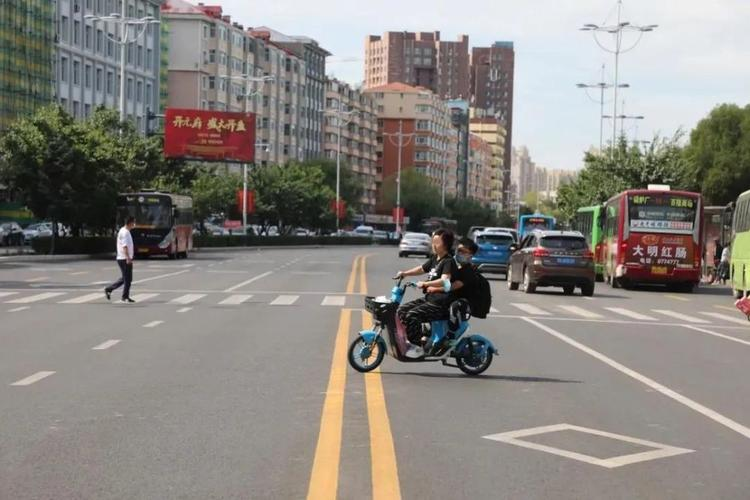bicycle: (347, 281, 497, 376), (452, 261, 493, 319)
bus: (578, 187, 705, 292), (116, 191, 194, 259), (718, 193, 750, 322), (515, 213, 558, 236)
car: (506, 230, 596, 296), (466, 228, 519, 277), (398, 233, 432, 258), (23, 222, 67, 240), (0, 222, 26, 246)
person: (392, 231, 473, 353), (103, 217, 139, 303)
